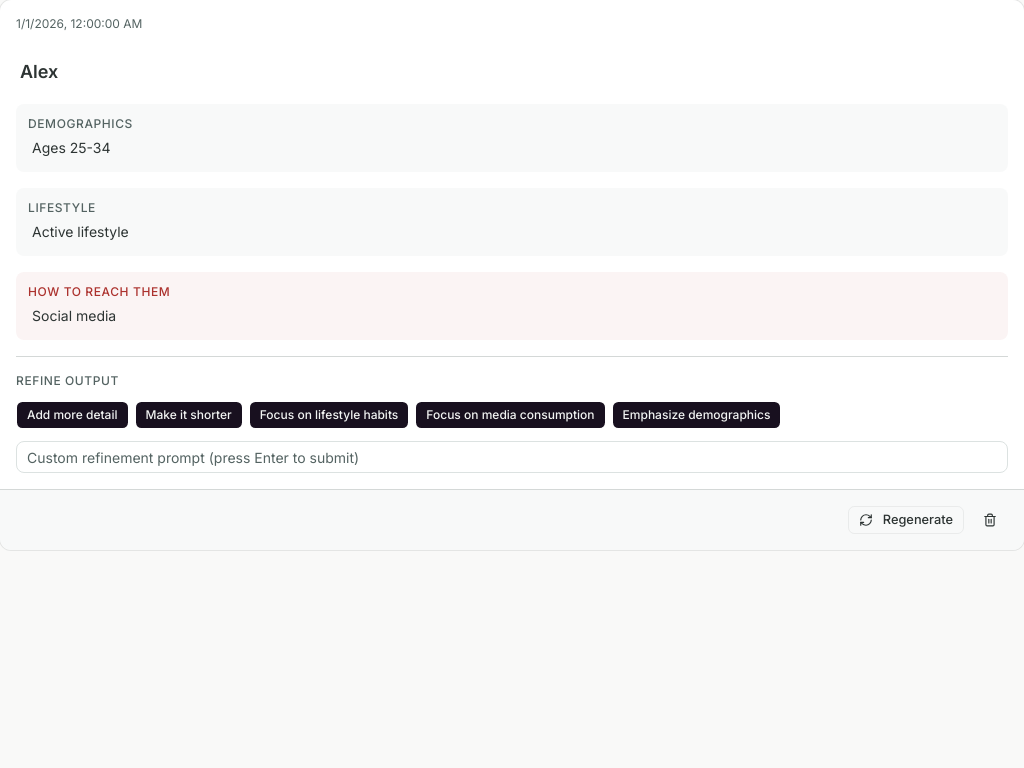
it: CreativeOutputEditCard › shows confirmation before regenerating
Click the button "Regenerate". click: coordinates (906, 520)
box: [848,506,964,534]
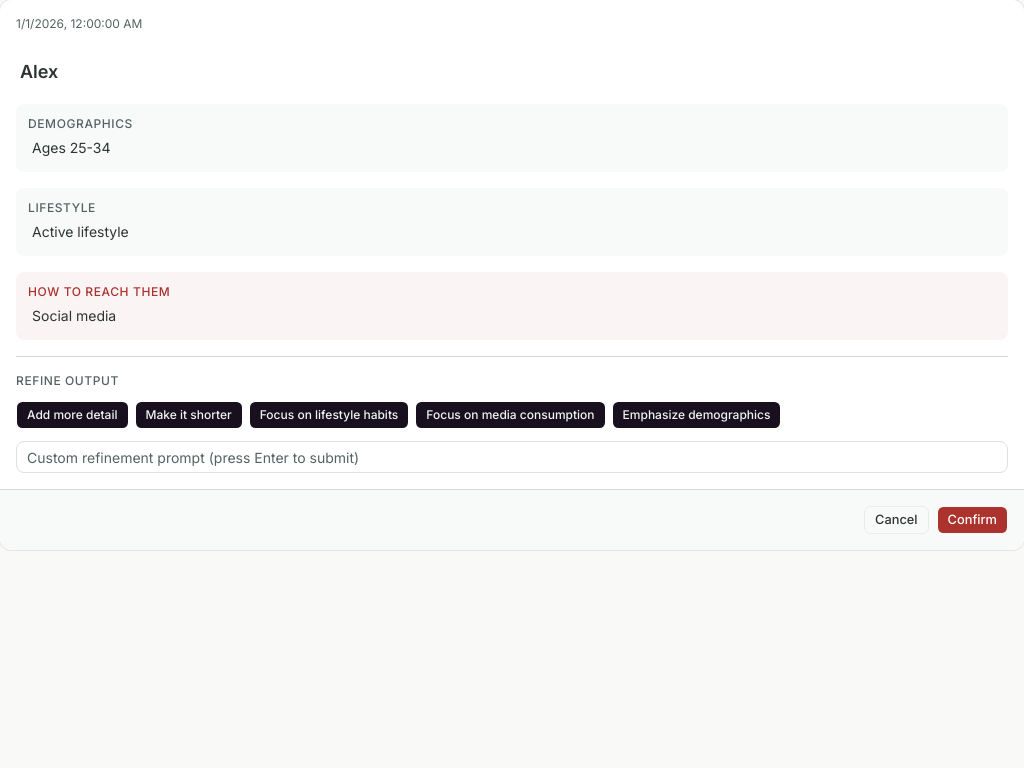
Now the button "Confirm" is shown, box [937,506,1008,534]
Now the button "Cancel" is shown, box [864,506,929,534]
